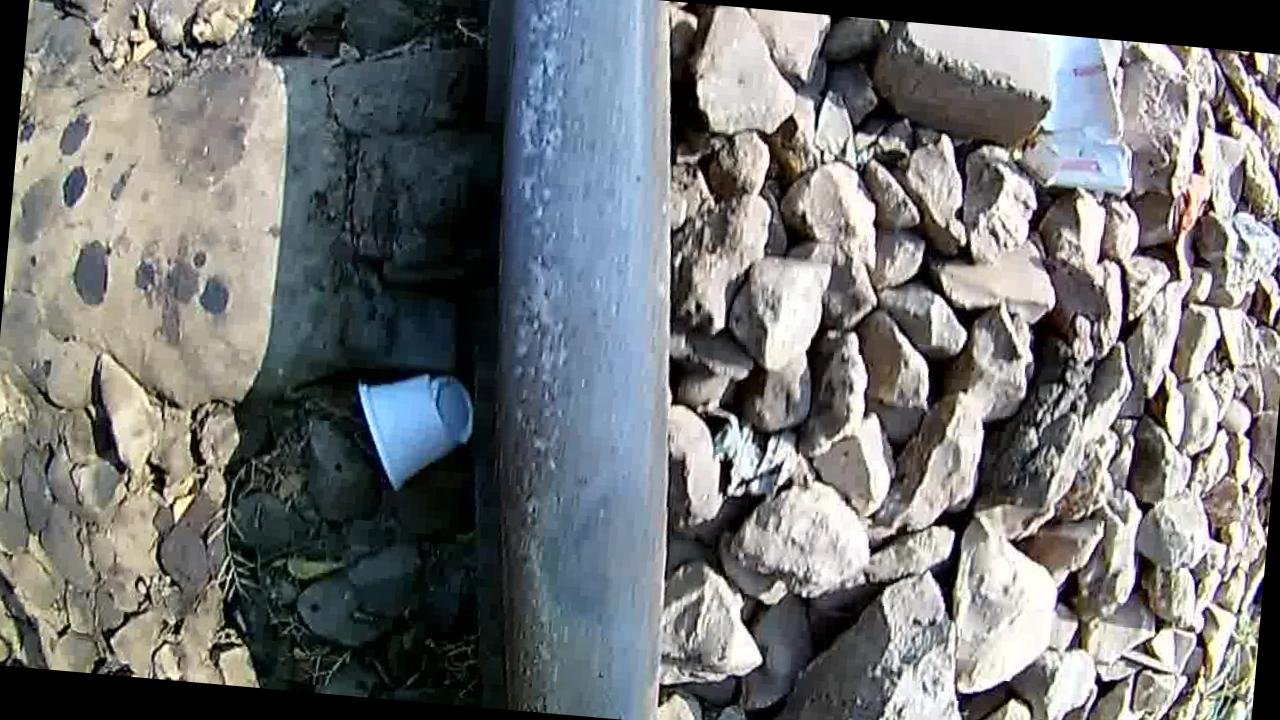bolt_missing: (479, 453, 685, 720)
